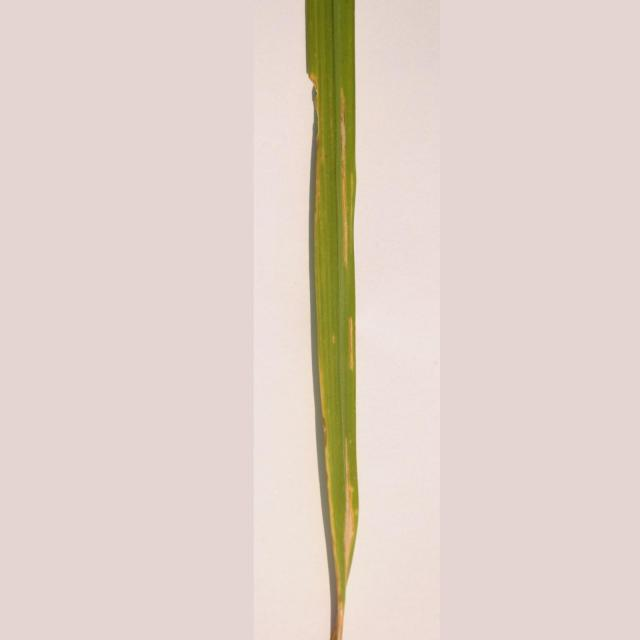leaf blight: (309, 66, 366, 636)
